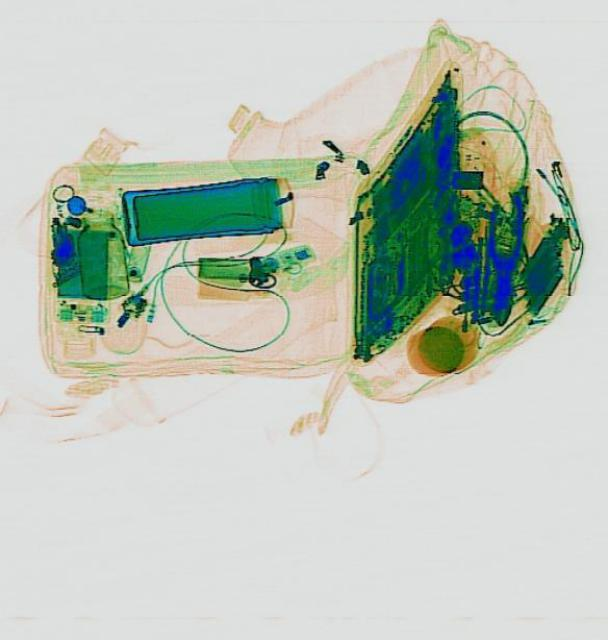Pliers: (482, 194, 523, 324)
